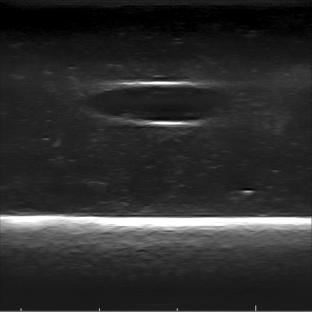vessel: (88, 80, 231, 128)
